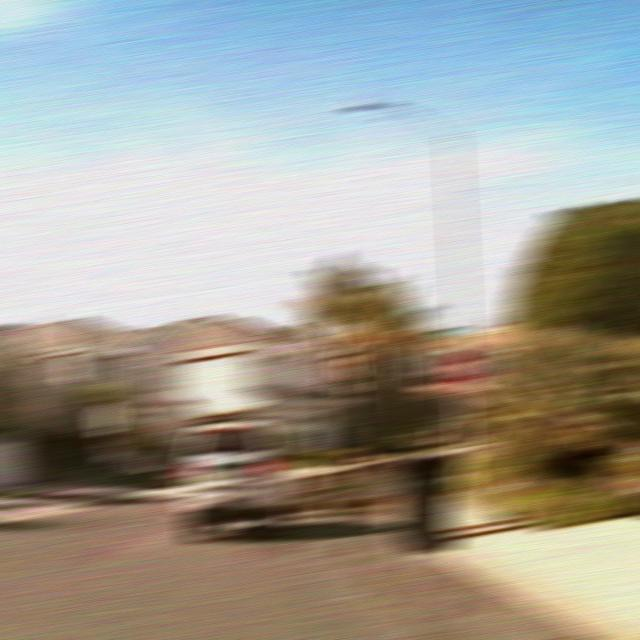stop: (442, 350, 481, 387)
